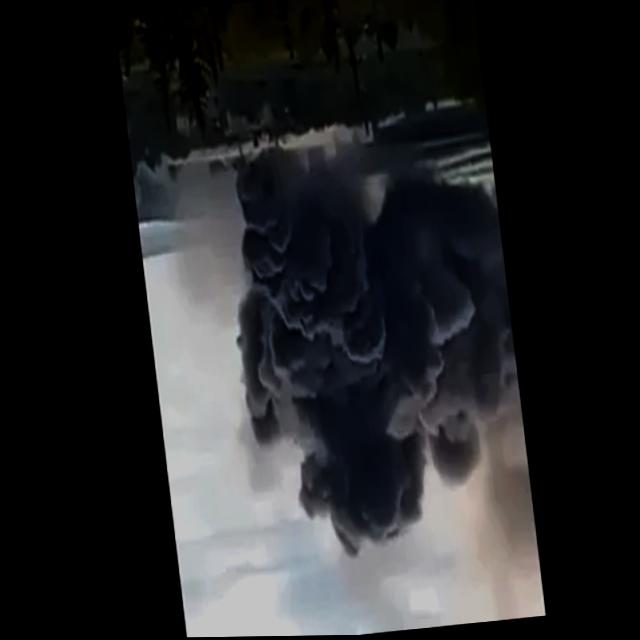no_helmet: (213, 134, 531, 566)
